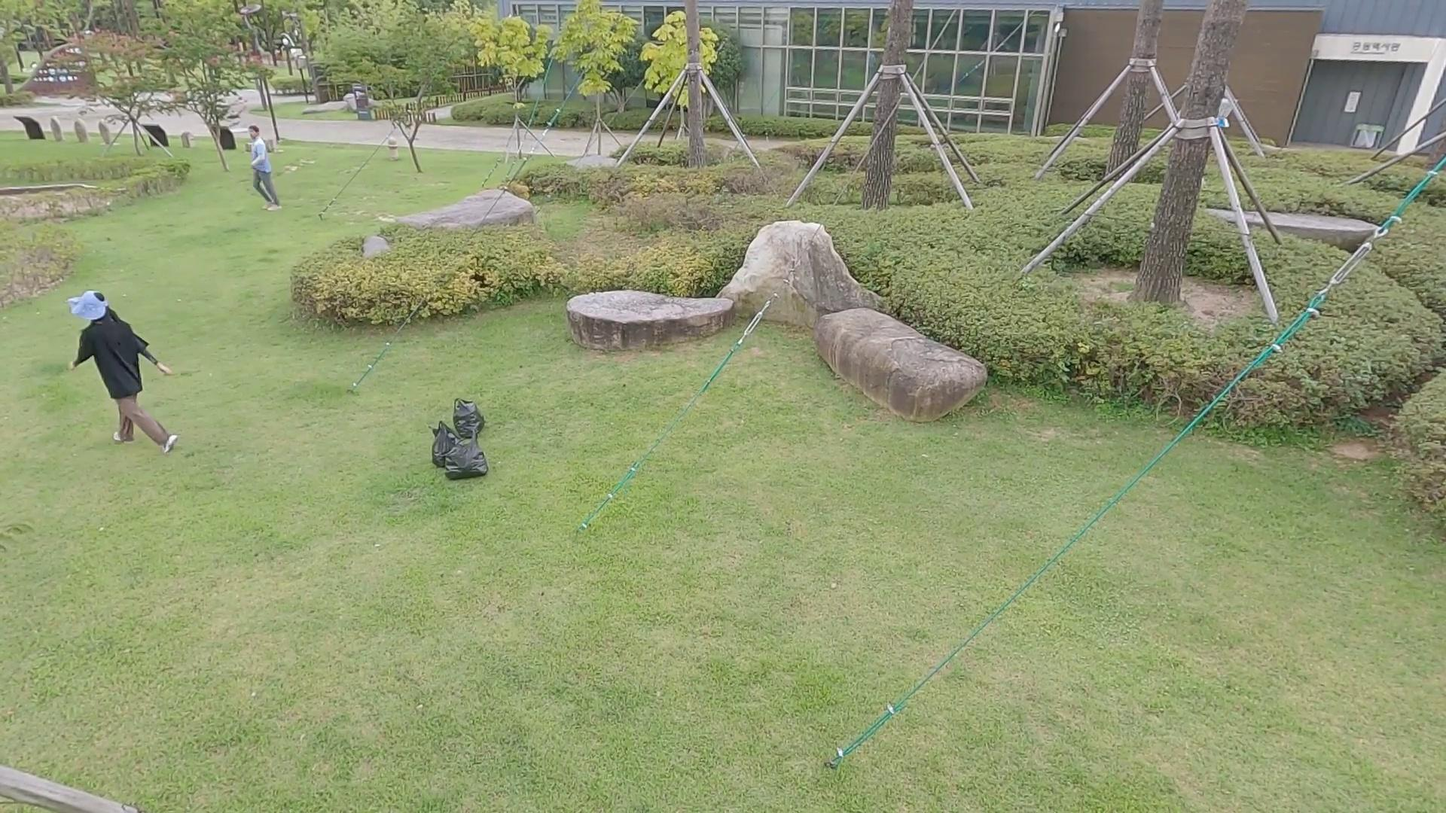person: (61, 281, 180, 459), (245, 120, 286, 212)
trash: (426, 416, 474, 468), (445, 427, 488, 484), (448, 396, 487, 439)
